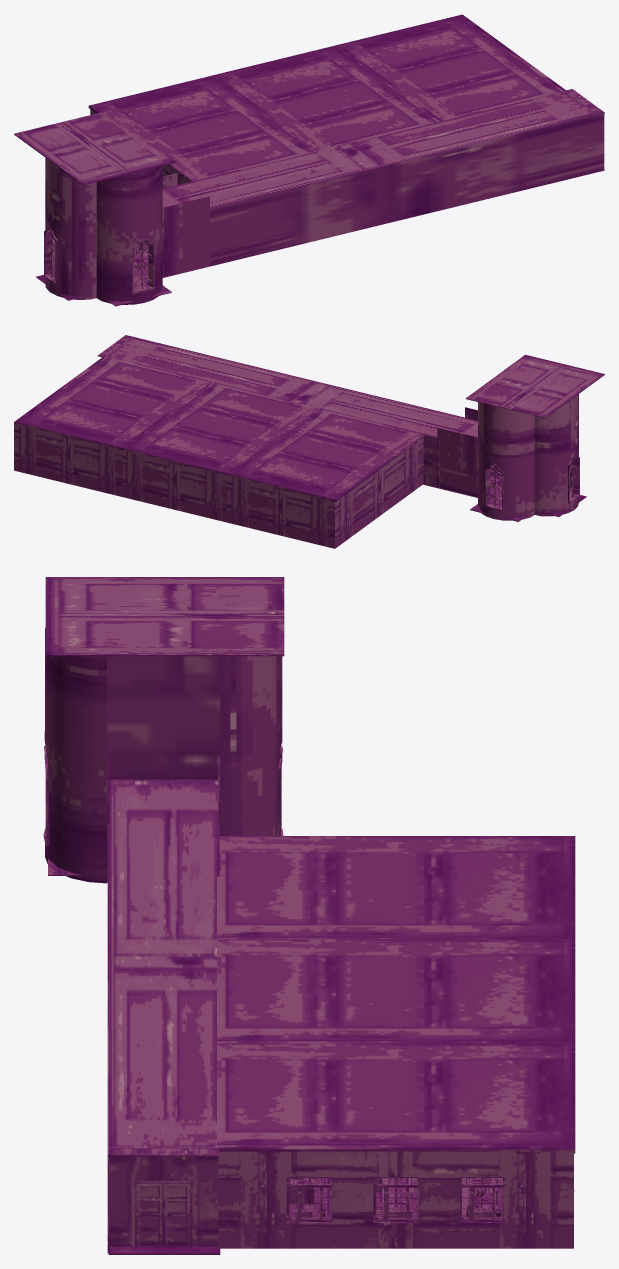
The model's file is dream1.gltf.
3 renders of one model, top to bottom at view 1: azimuth 30°, elevation 25°; view 2: azimuth 150°, elevation 25°; view 3: azimuth 270°, elevation 25°, orthographic. The views are drawn at different scales.
Parts seen in each view (by area): view 1: LowPoly Stylized Classroom_obj_cleaner_materialmerger_gles_0 (×2), paredpas, Walls_001, techo, LowPoly Stylized Classroom_obj_cleaner_materialmerger_gles, techobib, Windows_001, Floor; view 2: LowPoly Stylized Classroom_obj_cleaner_materialmerger_gles_0 (×2), LowPoly Stylized Classroom_obj_cleaner_materialmerger_gles, Walls_001, techo, techobib, Windows_001, pared2, Floor; view 3: LowPoly Stylized Classroom_obj_cleaner_materialmerger_gles_0 (×2), techo, LowPoly Stylized Classroom_obj_cleaner_materialmerger_gles, Walls_001, techobib, paredlibarriba, pared, entrada_right, entrada_left, piso, paredpas.
Part boxes in pixels (x1,y1,x2,y2): LowPoly Stylized Classroom_obj_cleaner_materialmerger_gles_0 (×2): (212, 14, 566, 151); paredpas: (210, 112, 604, 266); Walls_001: (45, 158, 209, 304); techo: (162, 89, 604, 208); LowPoly Stylized Classroom_obj_cleaner_materialmerger_gles: (88, 74, 318, 184); techobib: (14, 111, 175, 185); Windows_001: (44, 228, 154, 293); Floor: (36, 252, 171, 306); LowPoly Stylized Classroom_obj_cleaner_materialmerger_gles_0 (×2): (14, 356, 318, 522); LowPoly Stylized Classroom_obj_cleaner_materialmerger_gles: (226, 409, 424, 548); Walls_001: (437, 394, 578, 520); techo: (97, 335, 477, 437); techobib: (465, 354, 604, 418); Windows_001: (485, 454, 579, 511); pared2: (423, 435, 439, 487); Floor: (470, 475, 586, 521); LowPoly Stylized Classroom_obj_cleaner_materialmerger_gles_0 (×2): (217, 939, 575, 1248); techo: (107, 779, 219, 1156); LowPoly Stylized Classroom_obj_cleaner_materialmerger_gles: (217, 836, 575, 938); Walls_001: (44, 627, 282, 883); techobib: (45, 577, 284, 656); paredlibarriba: (107, 656, 220, 780); pared: (109, 1147, 218, 1246); entrada_right: (136, 1183, 163, 1245); entrada_left: (163, 1183, 190, 1245); piso: (108, 1246, 220, 1254); paredpas: (107, 958, 109, 1253).
Bounding box in the file's own units: 190 × 44.83 × 94.43.
146 materials, 146 textured.
